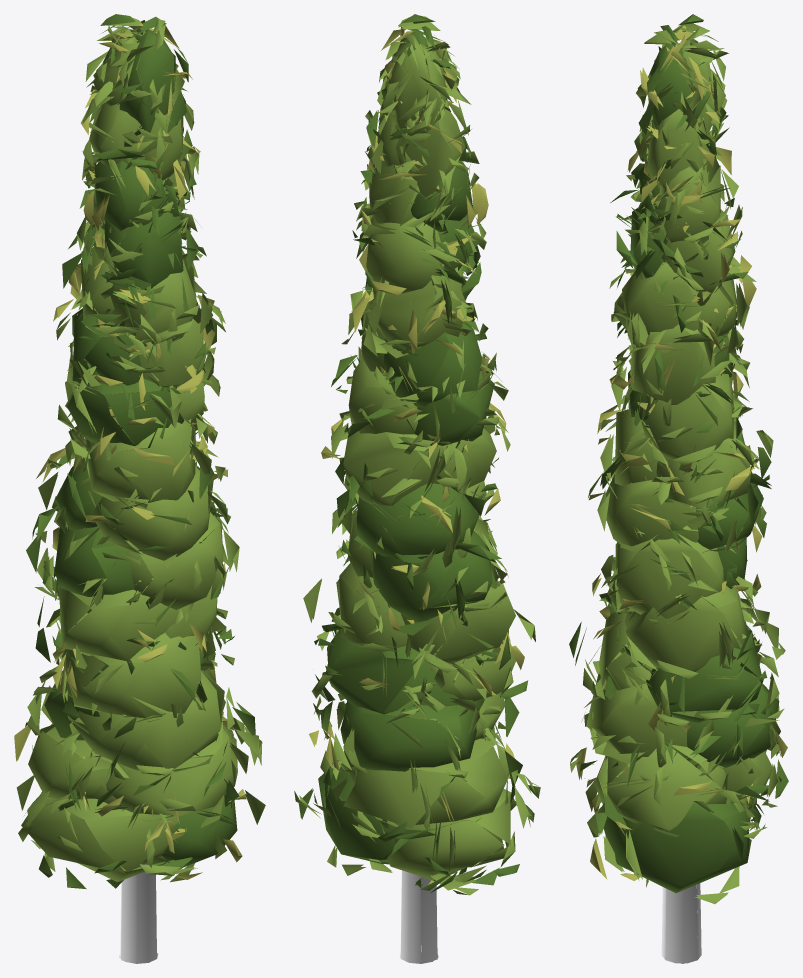
The model's file is Cypress_LOD1.glb.
3 views of the same model, side by side, from view 1: azimuth 30°, elevation 25°; view 2: azimuth 150°, elevation 25°; view 3: azimuth 270°, elevation 25° (orthographic).
Visible parts, largest first — view 1: RK_Cypress_LOD1_RK_Leaf, RK_Cypress_LOD1_RK_LeafDark, RK_Cypress_LOD1_RK_LeafGold, RK_Cypress_LOD1_RK_Bark; view 2: RK_Cypress_LOD1_RK_Leaf, RK_Cypress_LOD1_RK_LeafDark, RK_Cypress_LOD1_RK_LeafGold, RK_Cypress_LOD1_RK_Bark; view 3: RK_Cypress_LOD1_RK_Leaf, RK_Cypress_LOD1_RK_LeafDark, RK_Cypress_LOD1_RK_LeafGold, RK_Cypress_LOD1_RK_Bark.
Part boxes in pixels (x1,y1,x2,y2): RK_Cypress_LOD1_RK_Leaf: (16, 15, 265, 882); RK_Cypress_LOD1_RK_LeafDark: (25, 14, 255, 889); RK_Cypress_LOD1_RK_LeafGold: (14, 24, 246, 879); RK_Cypress_LOD1_RK_Bark: (119, 863, 158, 963); RK_Cypress_LOD1_RK_Leaf: (294, 15, 540, 895); RK_Cypress_LOD1_RK_LeafDark: (298, 14, 534, 893); RK_Cypress_LOD1_RK_LeafGold: (309, 27, 524, 884); RK_Cypress_LOD1_RK_Bark: (399, 870, 438, 963); RK_Cypress_LOD1_RK_Leaf: (570, 23, 785, 903); RK_Cypress_LOD1_RK_LeafDark: (569, 14, 788, 893); RK_Cypress_LOD1_RK_LeafGold: (576, 25, 787, 880); RK_Cypress_LOD1_RK_Bark: (661, 883, 701, 963).
Bounding box in the file's own units: 1.57 × 6.69 × 1.43.
